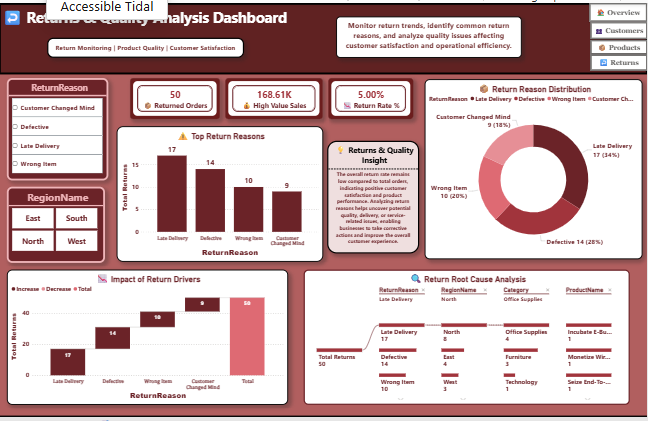

Layout of this report page (visuals, bound fields, positions):
{"tool":"powerbi","page":{"name":"Returns & Quality Analysis","canvas":[1900,1250],"ordinal":3},"visuals":[{"type":"textbox","box":[0,0,1900.1,209.1],"z":0},{"type":"cardVisual","fields":{"Data":["Measures_Table.Total Returns"]},"box":[384.1,221.2,263.4,120.6],"z":1000},{"type":"cardVisual","fields":{"Data":["Measures_Table.Return Rate %"]},"box":[963.1,221.2,249.3,120.6],"z":2000},{"type":"cardVisual","fields":{"Data":["Measures_Table.High Value Sales"]},"box":[663.5,221.2,285.5,120.6],"z":3000},{"type":"clusteredColumnChart","title":"⚠️ Top Return Reasons","fields":{"Category":["Returns_Fact.ReturnReason"],"Y":["Measures_Table.Total Returns"]},"box":[345,362.5,605,397.5],"z":4000},{"type":"donutChart","title":"📦 Return Reason Distribution","fields":{"Category":["Returns_Fact.ReturnReason"],"Y":["Measures_Table.Total Returns"]},"box":[1246,222,638,528],"z":5000},{"type":"decompositionTreeVisual","title":"🔍 Return Root Cause Analysis","fields":{"Analyze":["Measures_Table.Total Returns"],"ExplainBy":["Returns_Fact.ReturnReason","Region_Dim.RegionName","Product_Dim.Category","Product_Dim.ProductName"]},"box":[892.8,782.2,955.1,396.1],"z":6000},{"type":"listSlicer","fields":{"Values":["Returns_Fact.ReturnReason"]},"box":[22.1,219.2,297.6,299.6],"z":7000},{"type":"advancedSlicerVisual","fields":{"Values":["Region_Dim.RegionName"]},"box":[22.1,536.9,287.5,223.2],"z":8000},{"type":"waterfallChart","title":"📉 Impact of Return Drivers","fields":{"Category":["Returns_Fact.ReturnReason"],"Y":["Measures_Table.Total Returns"]},"box":[22.1,782.2,824.4,396.1],"z":9000},{"type":"actionButton","title":"Overview","box":[1730,0,170,55],"z":10000},{"type":"actionButton","title":"Overview","box":[1732.5,55,167.5,50],"z":11000},{"type":"actionButton","title":"Overview","box":[1732.5,107.5,167.5,42.5],"z":12000},{"type":"actionButton","title":"Overview","box":[1732.5,150,167.5,47.5],"z":13000},{"type":"textbox","box":[141.9,101.4,576.9,59],"z":14000},{"type":"textbox","box":[987.9,40.5,543.7,121.6],"z":15000},{"type":"textbox","title":"💡 Returns & Quality Insight","box":[962,404,270,330],"z":16000},{"type":"textbox","box":[0,1210,1900,40],"z":17000},{"type":"shape","box":[0,1185,1900,52.5],"z":18000}]}

Visuals, with their boxes on the page's 1900x1250 design canvas (x1, y1, x2, y2). These are canvas units, not pixel positions in the 648x421 screenshot, which may show the page scaled, cropped or inside an application window:
textbox: (x1=0, y1=0, x2=1900, y2=209)
cardVisual - Measures_Table.Total Returns: (x1=384, y1=221, x2=648, y2=342)
cardVisual - Measures_Table.Return Rate %: (x1=963, y1=221, x2=1212, y2=342)
cardVisual - Measures_Table.High Value Sales: (x1=664, y1=221, x2=949, y2=342)
"⚠️ Top Return Reasons" clusteredColumnChart: (x1=345, y1=362, x2=950, y2=760)
"📦 Return Reason Distribution" donutChart: (x1=1246, y1=222, x2=1884, y2=750)
"🔍 Return Root Cause Analysis" decompositionTreeVisual: (x1=893, y1=782, x2=1848, y2=1178)
listSlicer - Returns_Fact.ReturnReason: (x1=22, y1=219, x2=320, y2=519)
advancedSlicerVisual - Region_Dim.RegionName: (x1=22, y1=537, x2=310, y2=760)
"📉 Impact of Return Drivers" waterfallChart: (x1=22, y1=782, x2=846, y2=1178)
"Overview" actionButton: (x1=1730, y1=0, x2=1900, y2=55)
"Overview" actionButton: (x1=1732, y1=55, x2=1900, y2=105)
"Overview" actionButton: (x1=1732, y1=108, x2=1900, y2=150)
"Overview" actionButton: (x1=1732, y1=150, x2=1900, y2=198)
textbox: (x1=142, y1=101, x2=719, y2=160)
textbox: (x1=988, y1=40, x2=1532, y2=162)
"💡 Returns & Quality Insight" textbox: (x1=962, y1=404, x2=1232, y2=734)
textbox: (x1=0, y1=1210, x2=1900, y2=1250)
shape: (x1=0, y1=1185, x2=1900, y2=1238)
